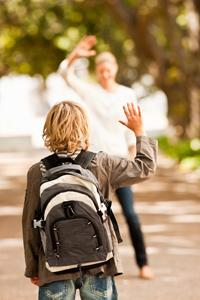person: (24, 102, 156, 300)
